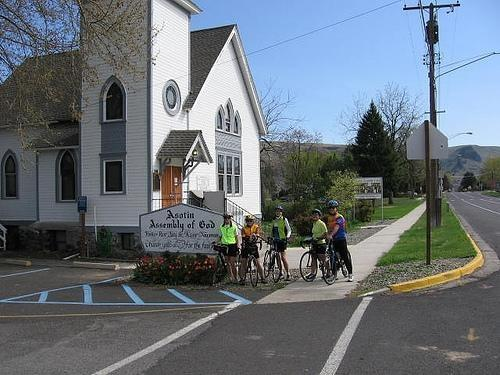bicycle: (262, 237, 289, 284), (322, 238, 349, 284), (242, 237, 262, 288), (210, 246, 232, 288), (300, 238, 320, 282), (238, 248, 250, 282)
